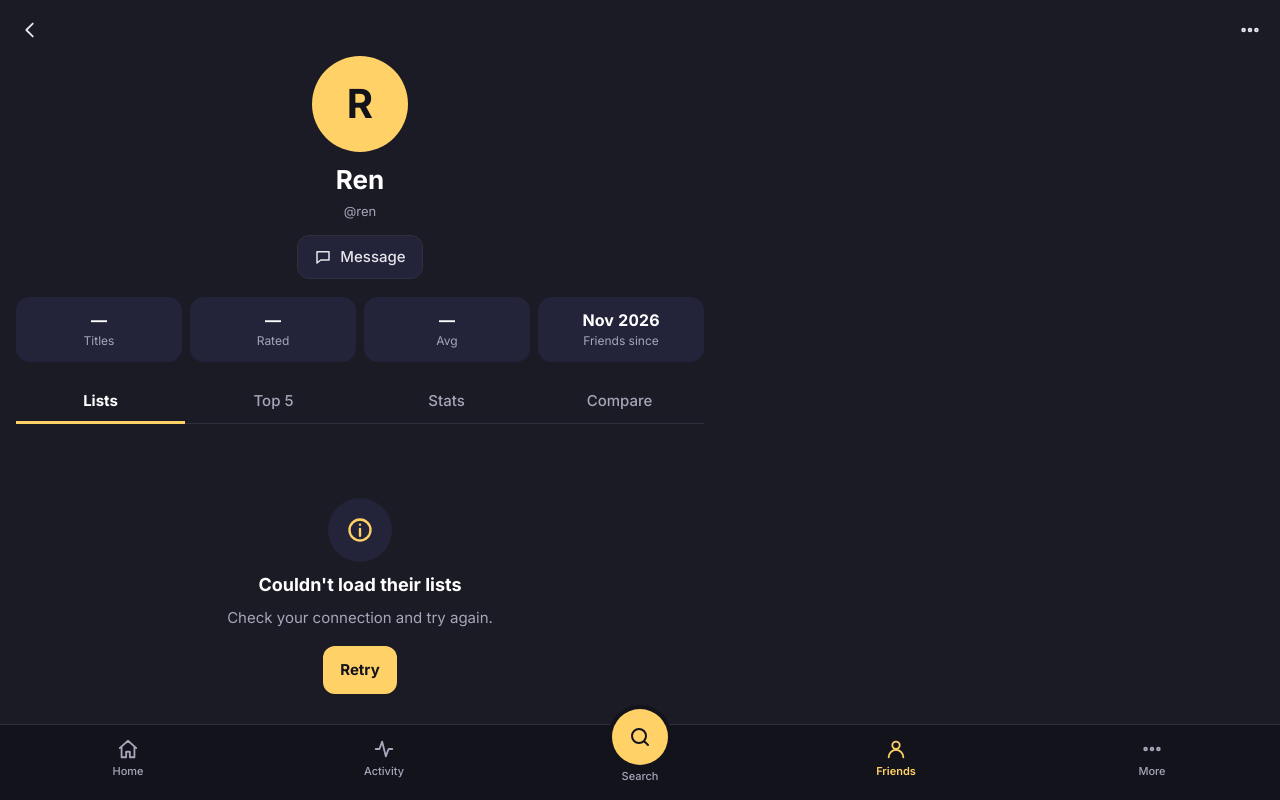
Test: Friend profile › failed entries load → Retry
The width and height of the screenshot is (1280, 800).
Click the button "Retry" at (360, 670), box [323, 646, 397, 694]
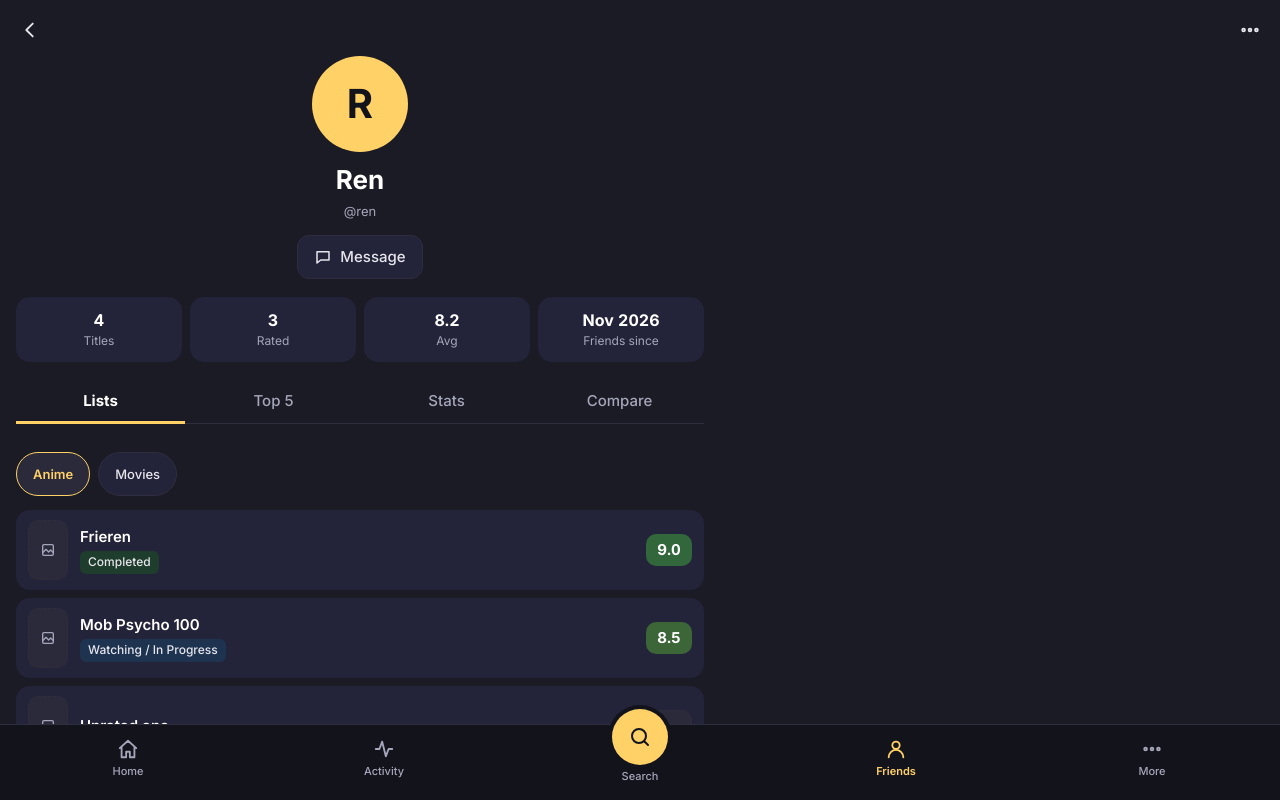
Check: the link "Frieren Completed 9.0" is shown, box [16, 510, 704, 590]
